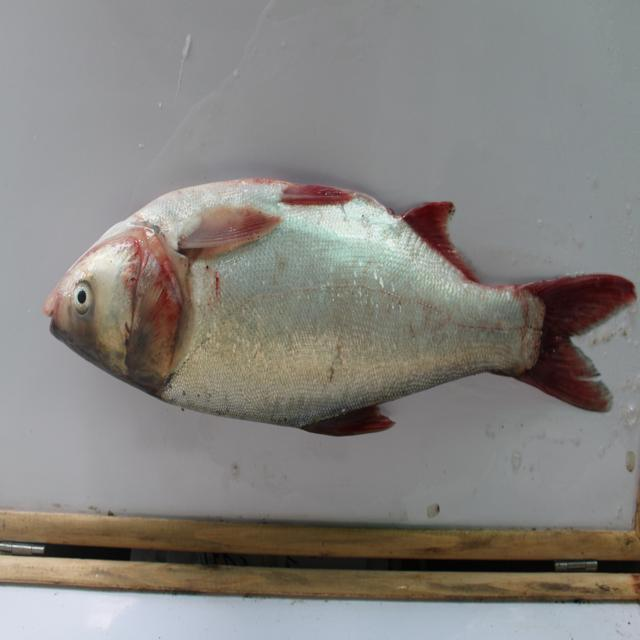SilverCarp: (50, 181, 623, 452)
